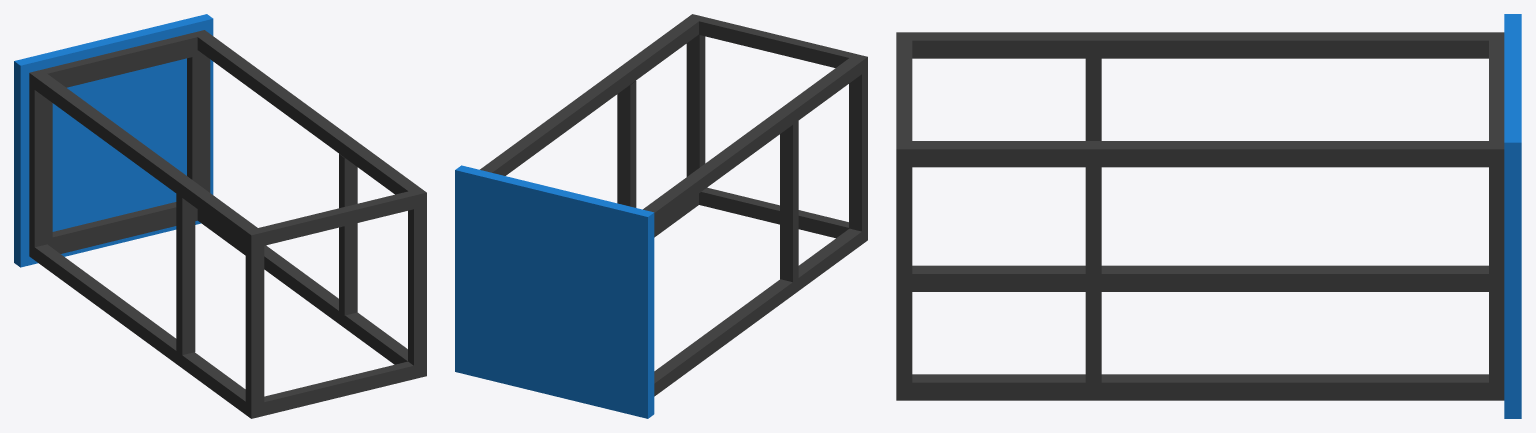
The model's file is stool.glb.
3 views of the same model, side by side, from view 1: azimuth 30°, elevation 25°; view 2: azimuth 150°, elevation 25°; view 3: azimuth 270°, elevation 25° (orthographic). The views are drawn at different scales.
Visible parts, largest first — view 1: kitchen_chair_016; view 2: kitchen_chair_016; view 3: kitchen_chair_016.
Boxes of the visible parts, left/top/right/bottom form: kitchen_chair_016: left=14, top=14, right=426, bottom=418; kitchen_chair_016: left=455, top=14, right=867, bottom=418; kitchen_chair_016: left=896, top=14, right=1521, bottom=418.
Bounding box in the file's own units: 0.3517 × 0.3517 × 0.7219.
Materials: 1 (1 with a texture image).
